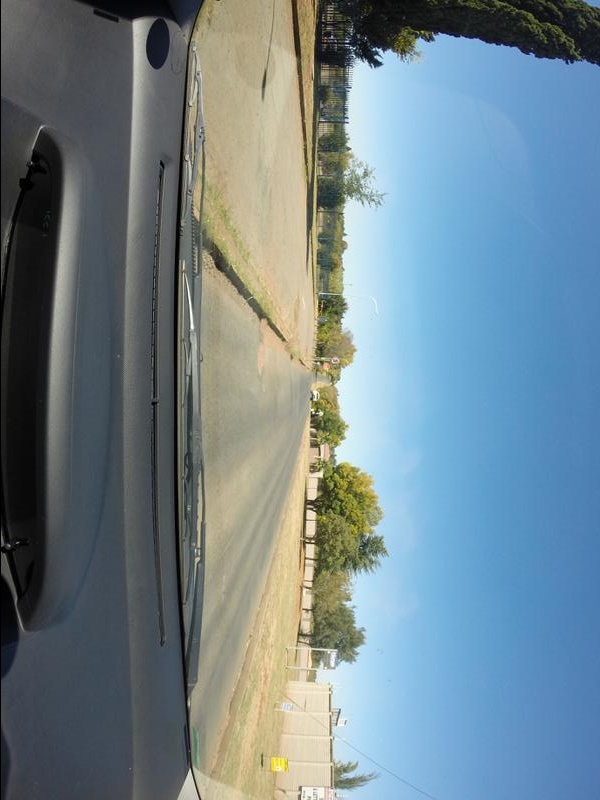pothole: (254, 322, 274, 385)
